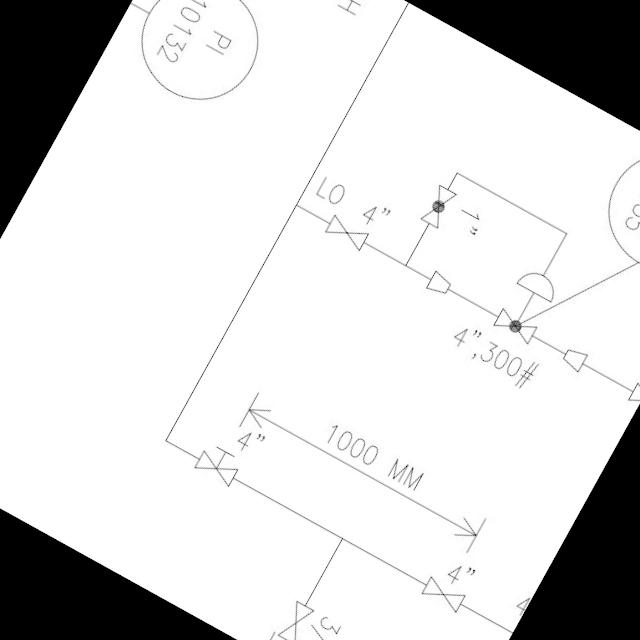BV2: (412, 176, 463, 238)
EC: (261, 562, 339, 640)
FC: (482, 258, 574, 358)
GV: (412, 568, 472, 620), (316, 206, 376, 256), (272, 594, 318, 640)
HV: (182, 434, 250, 498)
SP: (419, 267, 458, 303), (554, 341, 592, 377)
